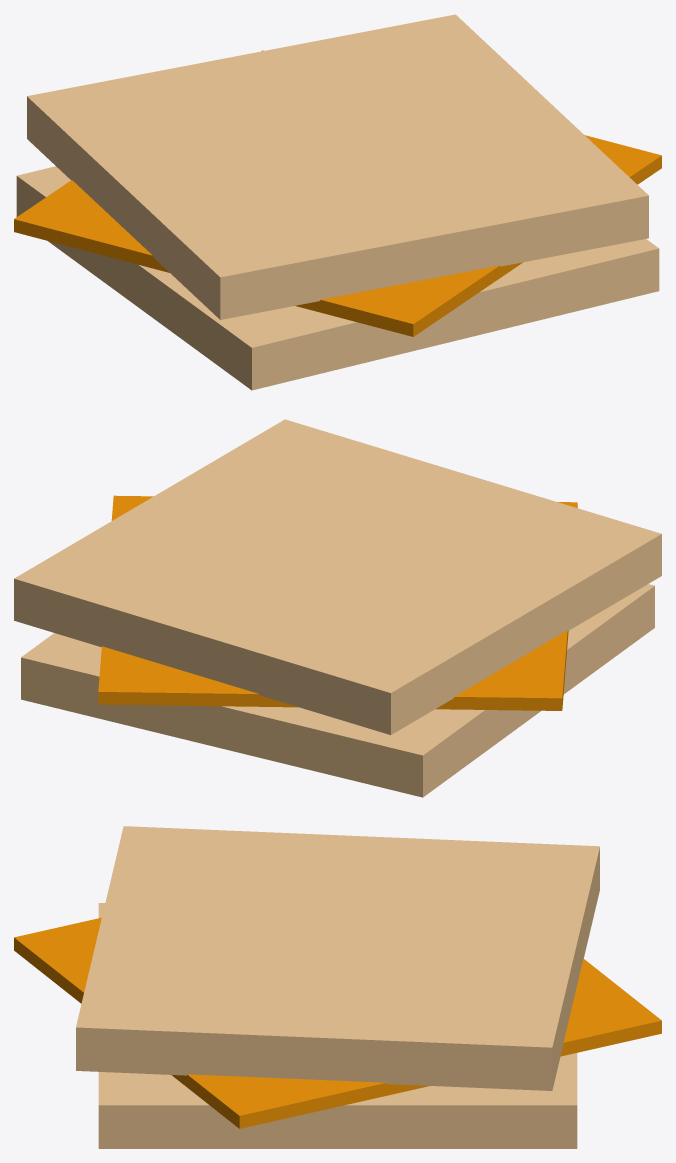
Rendered from Sandwich.fbx.
The picture shows the model from 3 angles, top to bottom: view 1: azimuth 30°, elevation 25°; view 2: azimuth 150°, elevation 25°; view 3: azimuth 270°, elevation 25°; orthographic projection. The views are drawn at different scales.
Parts seen in each view (by area): view 1: Sandwich; view 2: Sandwich; view 3: Sandwich.
Boxes of the visible parts, box(x1,y1,x2,y2) form: Sandwich: box(14, 14, 661, 390); Sandwich: box(14, 419, 661, 797); Sandwich: box(14, 826, 661, 1148).
Bounding box in the file's own units: 18.94 × 3.57 × 18.94.
